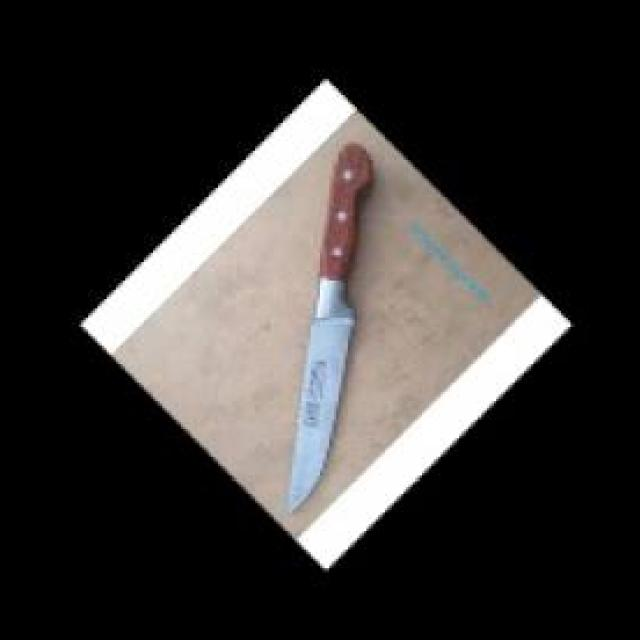knife: (276, 139, 378, 521)
